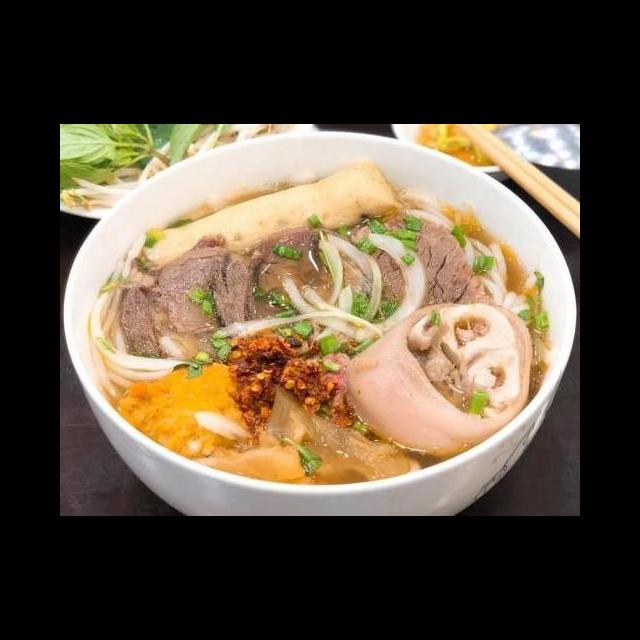bun: (83, 228, 202, 401), (408, 193, 539, 329), (276, 271, 389, 351)
bun bo: (80, 145, 580, 516)
thit bo: (338, 206, 498, 323), (242, 223, 386, 342), (152, 230, 262, 369), (115, 254, 214, 366)
